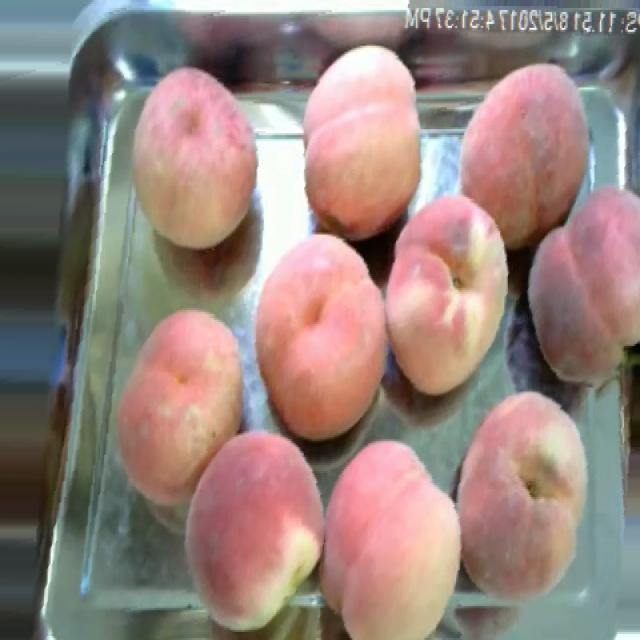Fruit: (453, 372, 608, 618), (108, 52, 269, 264), (174, 419, 326, 640), (101, 296, 255, 513), (314, 427, 470, 640), (244, 229, 393, 449), (383, 181, 524, 411), (450, 52, 602, 258), (292, 30, 433, 250), (510, 172, 640, 405)
